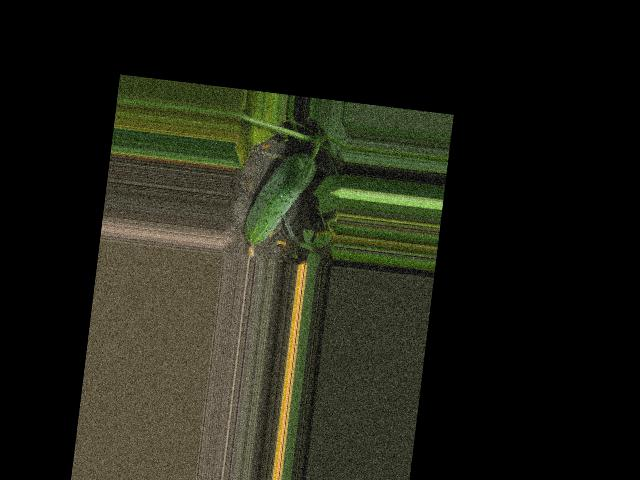cucumber: (240, 147, 317, 264)
